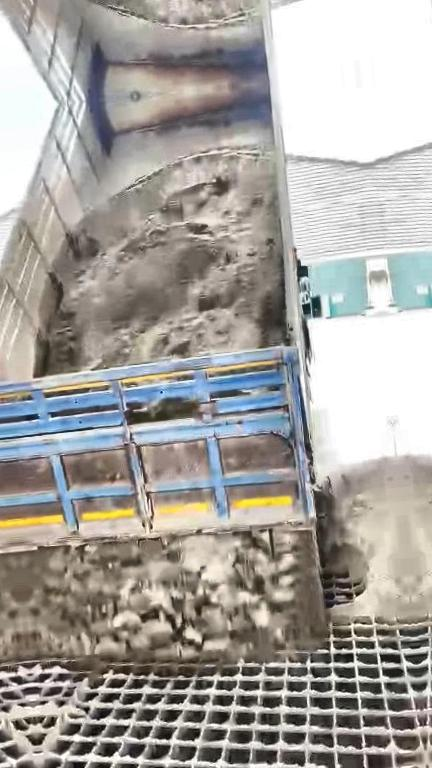sand: (46, 152, 287, 372), (21, 532, 326, 668), (317, 458, 412, 619)
